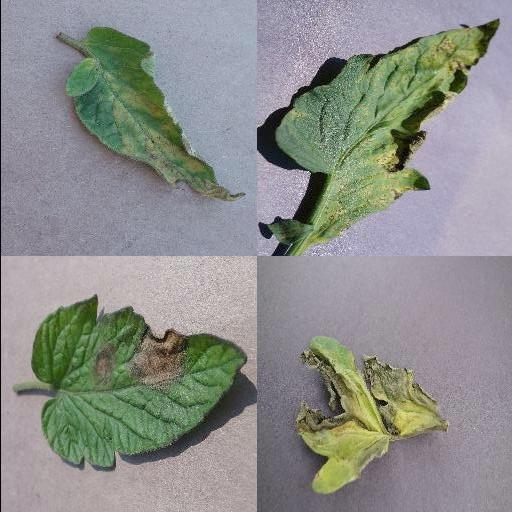Late Blight: (31, 293, 249, 471), (291, 337, 443, 497)
Leaf Mold: (63, 28, 245, 200)
Septoria: (272, 18, 502, 244)
